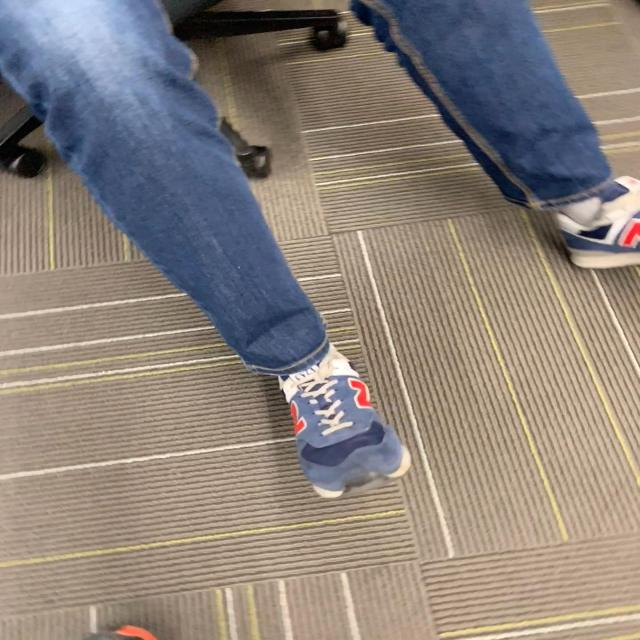shoe: (262, 350, 409, 501), (548, 179, 640, 254)
